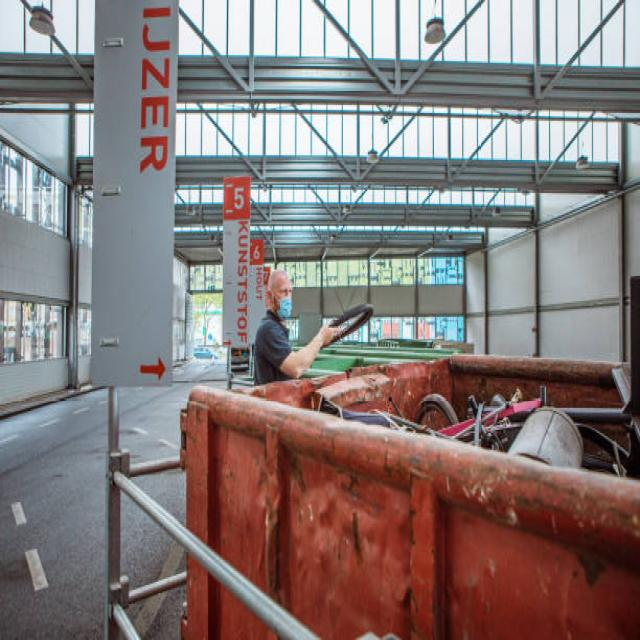metal: (326, 376, 624, 478)
